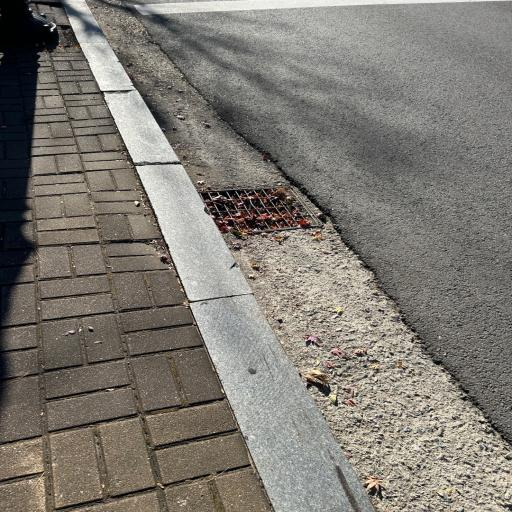debris: (258, 210, 310, 225), (233, 209, 254, 226), (272, 186, 292, 199), (253, 193, 268, 202), (222, 216, 229, 221), (233, 199, 237, 204), (223, 225, 227, 229), (267, 206, 271, 209), (271, 224, 274, 226)
drain: (203, 186, 323, 230)
